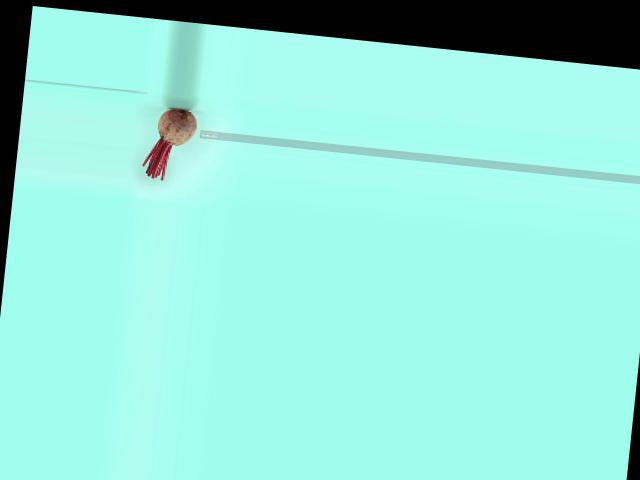beet: (141, 105, 198, 183)
